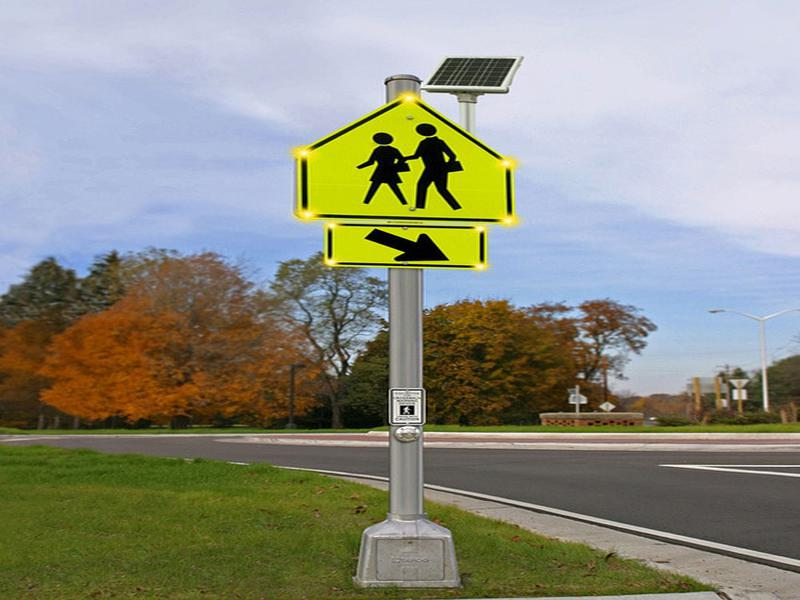slow: (289, 93, 527, 226)
